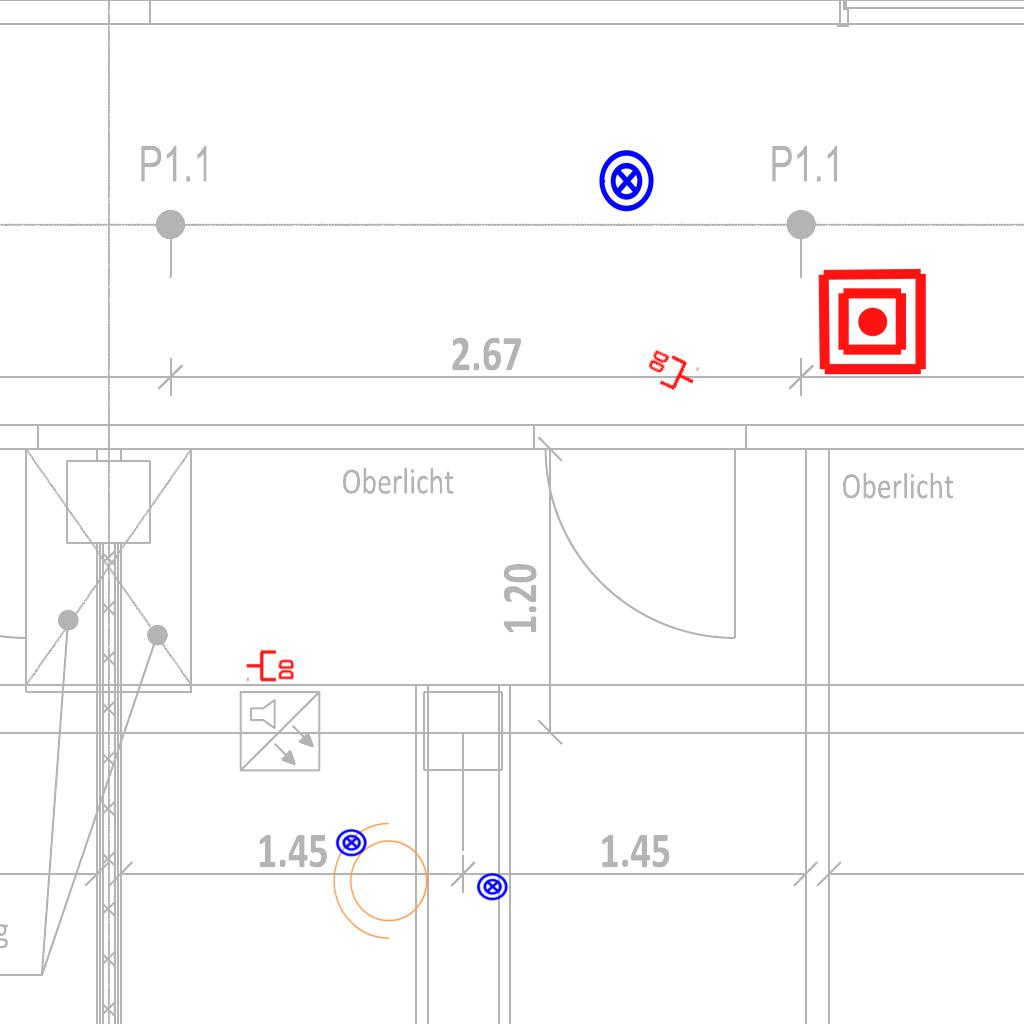Datenanschluss_zweifach: (640, 346, 702, 399), (245, 648, 296, 682)
NAM-Nichtautomatischer_Melder: (816, 265, 929, 378)
Scheinwerfer_fuer_Alarmbeleuchtung: (328, 818, 440, 950)
Taster_beleuchtet: (594, 148, 660, 214), (476, 870, 509, 903), (335, 826, 368, 859)
